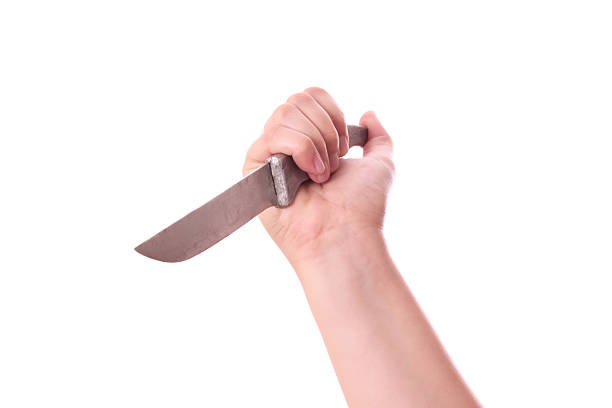knife: (133, 125, 368, 262)
